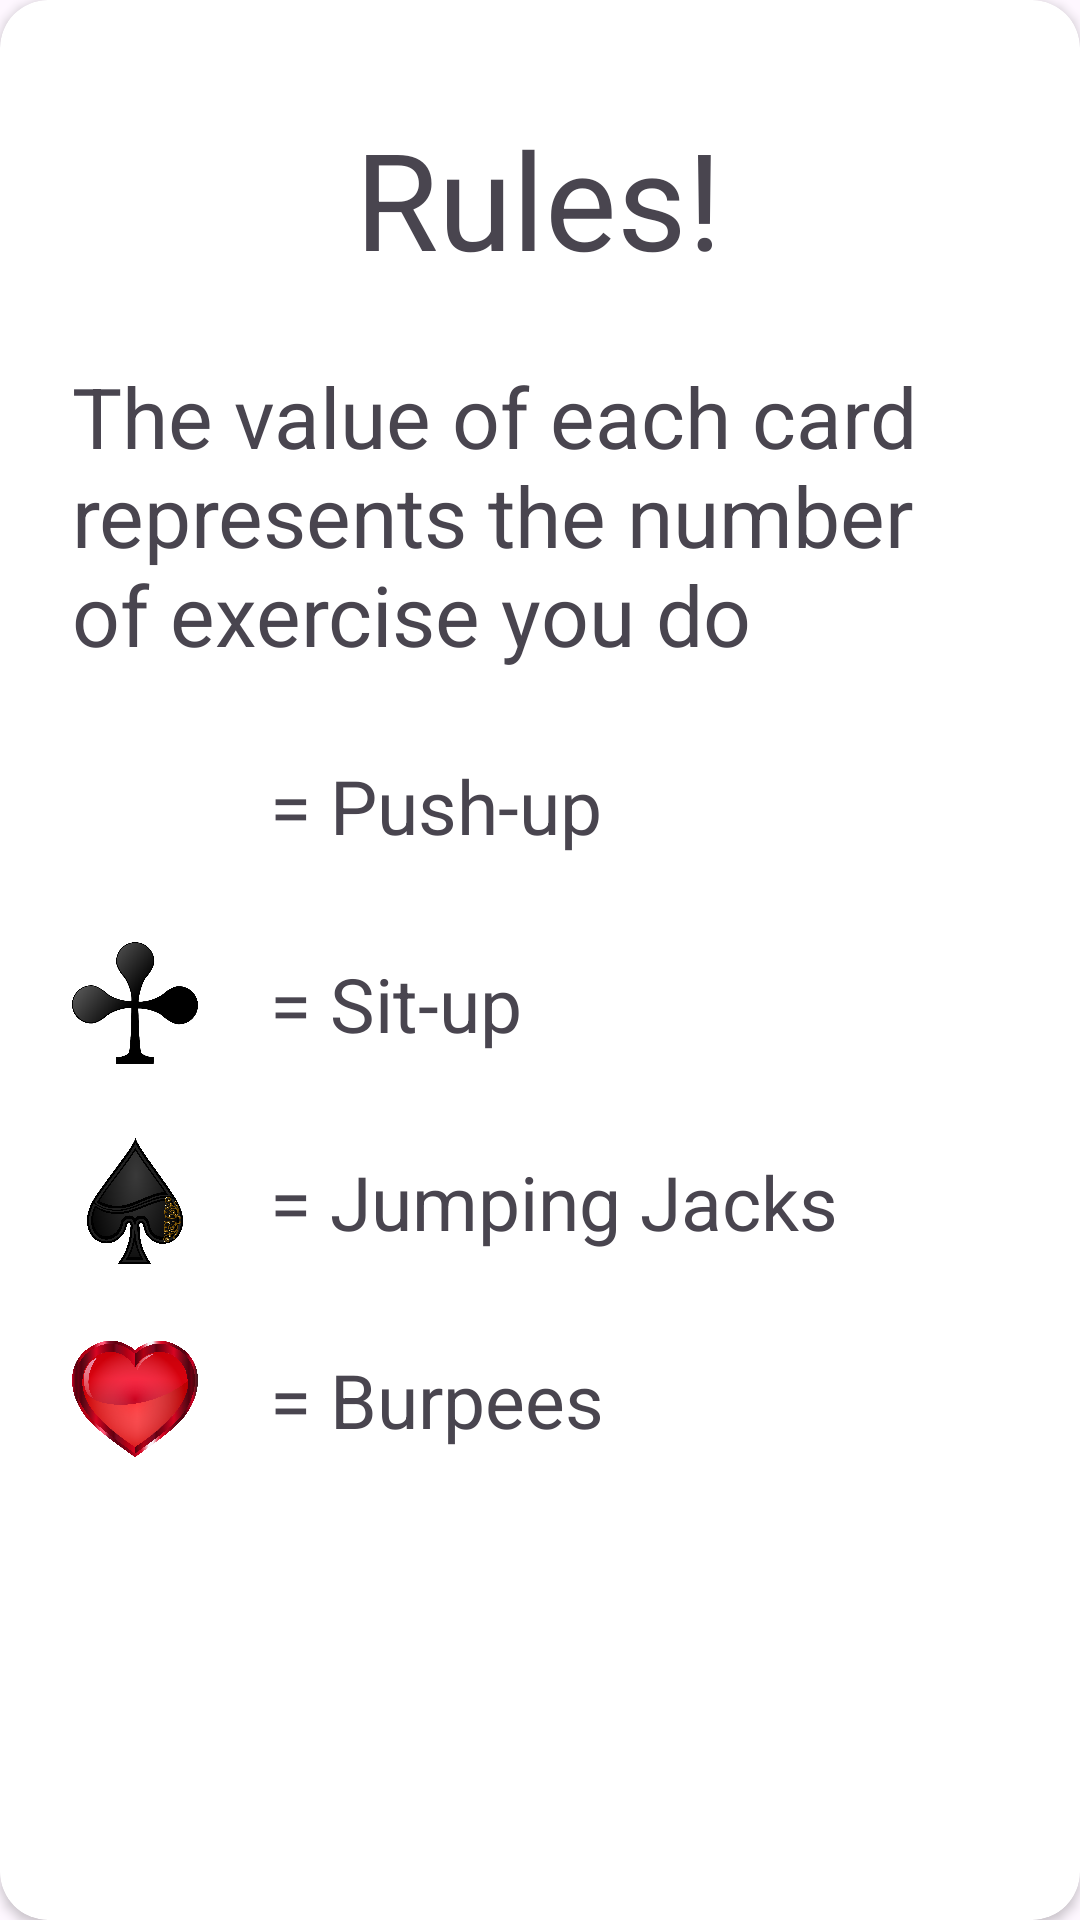

Locate icon controls on the screen. Image size 1080px×1920px, boxes as [x1,y1,x2,y2].
kupa: [72,1341,198,1457]
maca: [87,1138,183,1264]
sinek: [72,942,198,1064]
